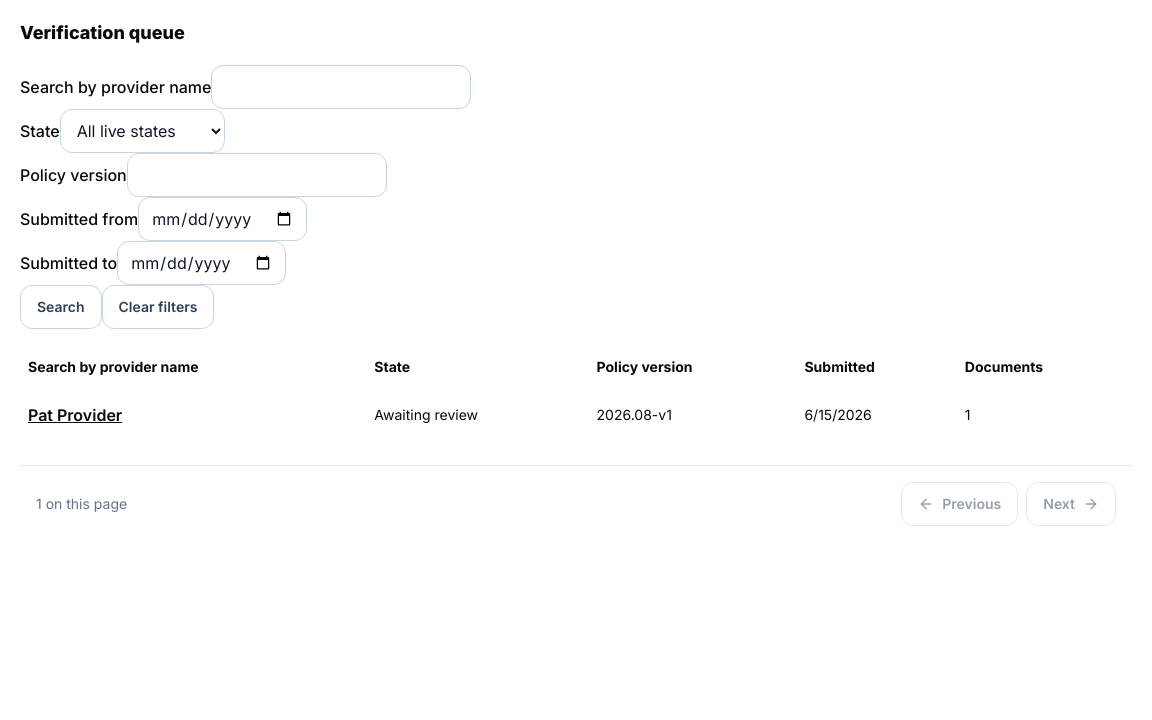
Test: opening a case from the queue › fetches the case that was clicked and shows its policy version
Click the button "Pat Provider".
click(75, 415)  # box [28,393,122,437]
(page scrolled)
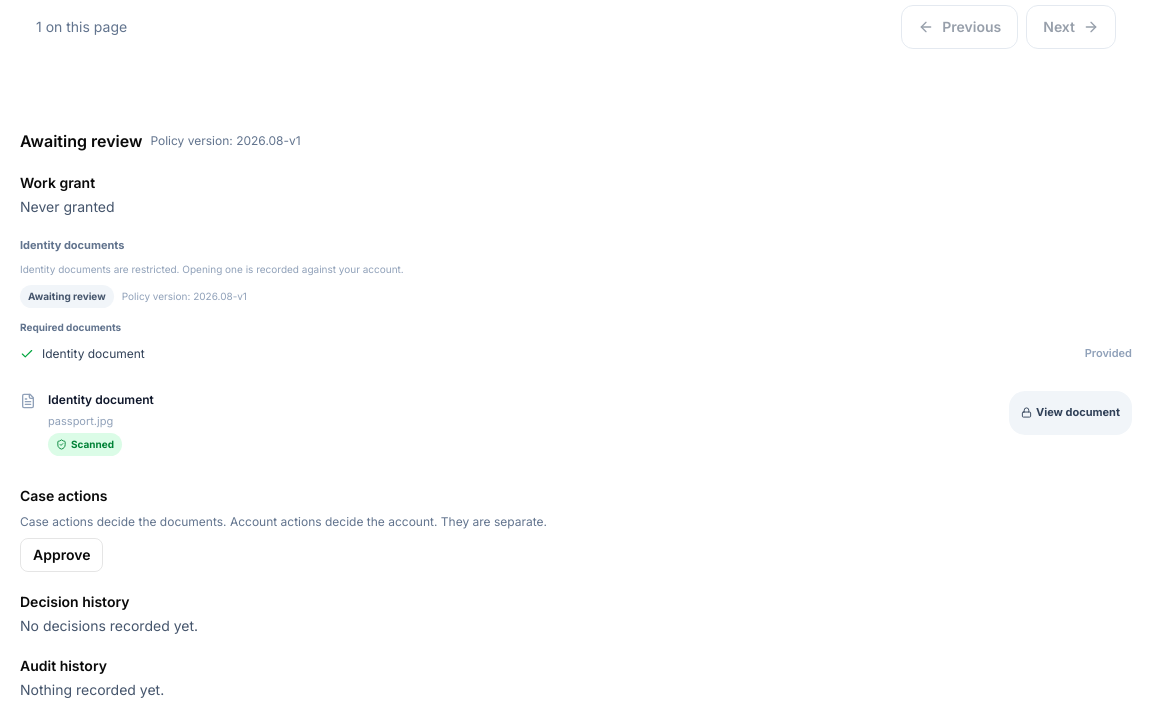
Now the text with test id "case-policy-version" is shown, box [150,133,301,149]
Now the text with test id "case-policy-version" shows "2026.08-v1", box [236,133,301,148]
Now the element with test id "case-actions" is shown, box [20,487,547,572]
